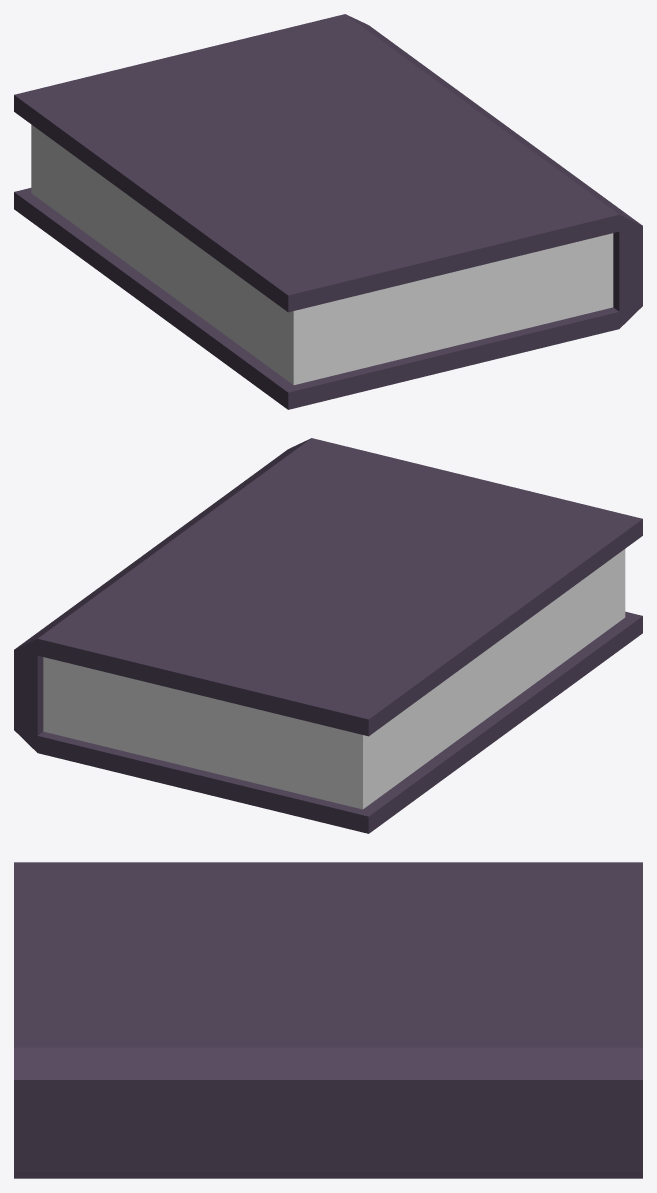
The model's file is tome_4.glb.
The picture shows the model from 3 angles, top to bottom: view 1: azimuth 30°, elevation 25°; view 2: azimuth 150°, elevation 25°; view 3: azimuth 270°, elevation 25°; orthographic projection. The views are drawn at different scales.
Parts seen in each view (by area): view 1: tome_4; view 2: tome_4; view 3: tome_4.
Part boxes in pixels (box(x1,y1,x2,y2)): tome_4: box(14, 14, 642, 409); tome_4: box(14, 438, 642, 833); tome_4: box(14, 862, 642, 1178).
Size of the model in its own units: 0.2302 by 0.0709 by 0.3081.
